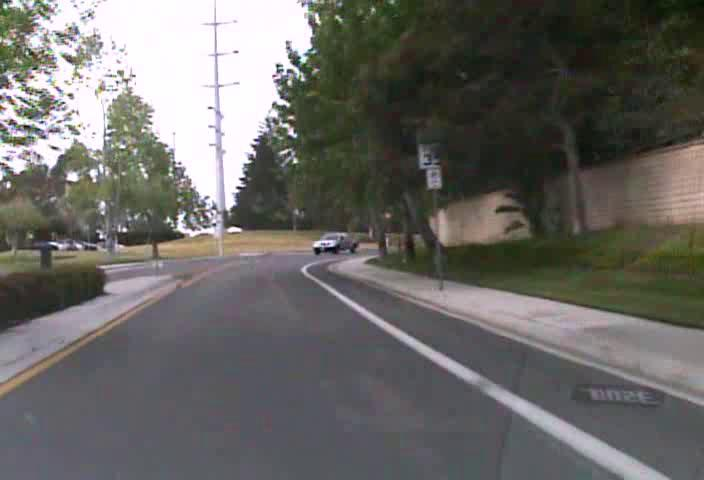speedLimit35: (417, 133, 446, 168)
